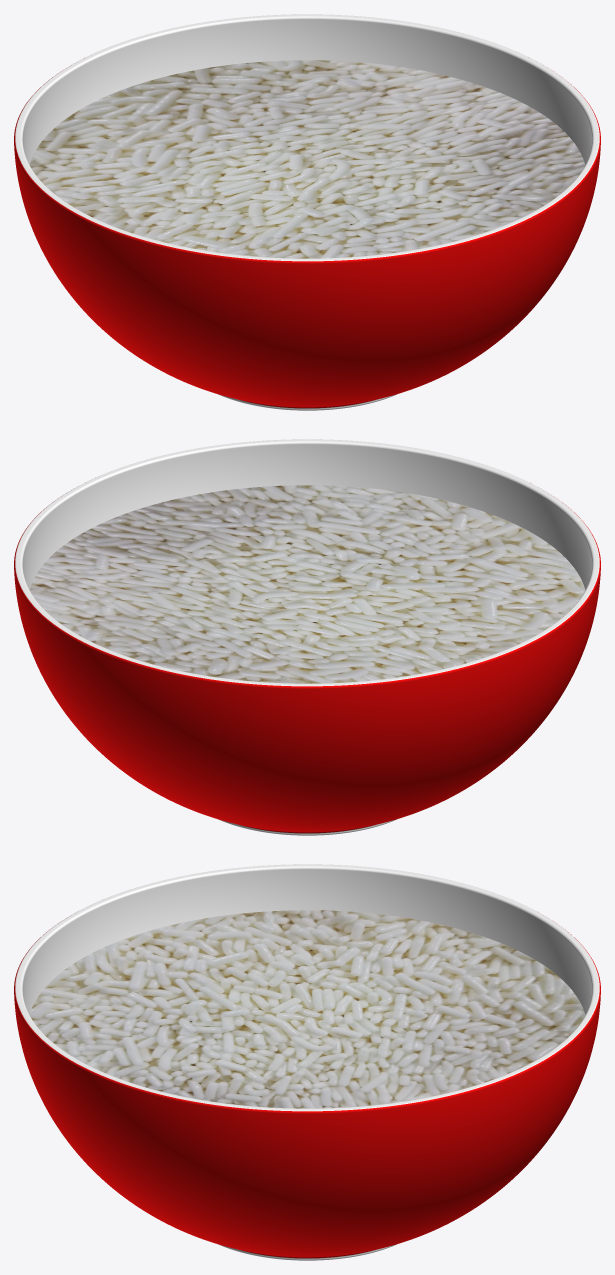
File: Sprinkle Bowl.fbx
3 renders of one model, top to bottom at view 1: azimuth 30°, elevation 25°; view 2: azimuth 150°, elevation 25°; view 3: azimuth 270°, elevation 25°, orthographic.
Visible parts, largest first — view 1: Bowl, Sprinkles; view 2: Bowl, Sprinkles; view 3: Bowl, Sprinkles.
Boxes of the visible parts, box(x1,y1,x2,y2) form: Bowl: box(14, 14, 600, 410); Sprinkles: box(29, 60, 585, 258); Bowl: box(14, 439, 600, 835); Sprinkles: box(29, 485, 585, 683); Bowl: box(14, 864, 600, 1260); Sprinkles: box(29, 910, 585, 1108).
Bounding box in the file's own units: 18.57 × 7.72 × 18.57.
